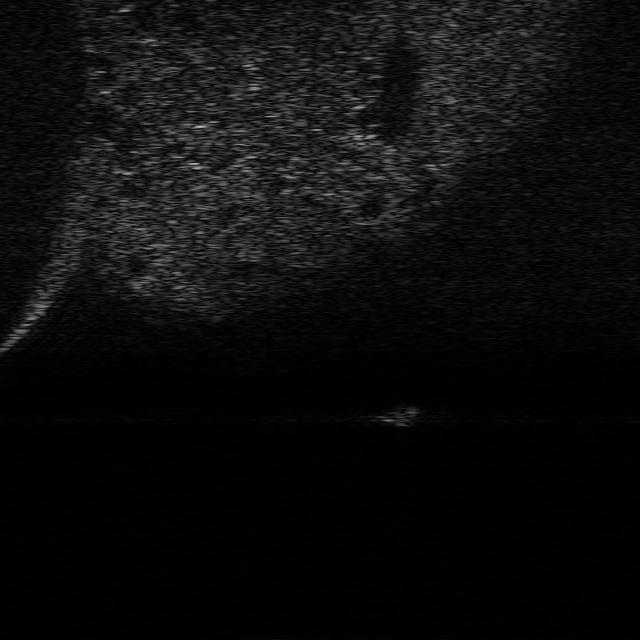cube: (370, 402, 424, 428)
